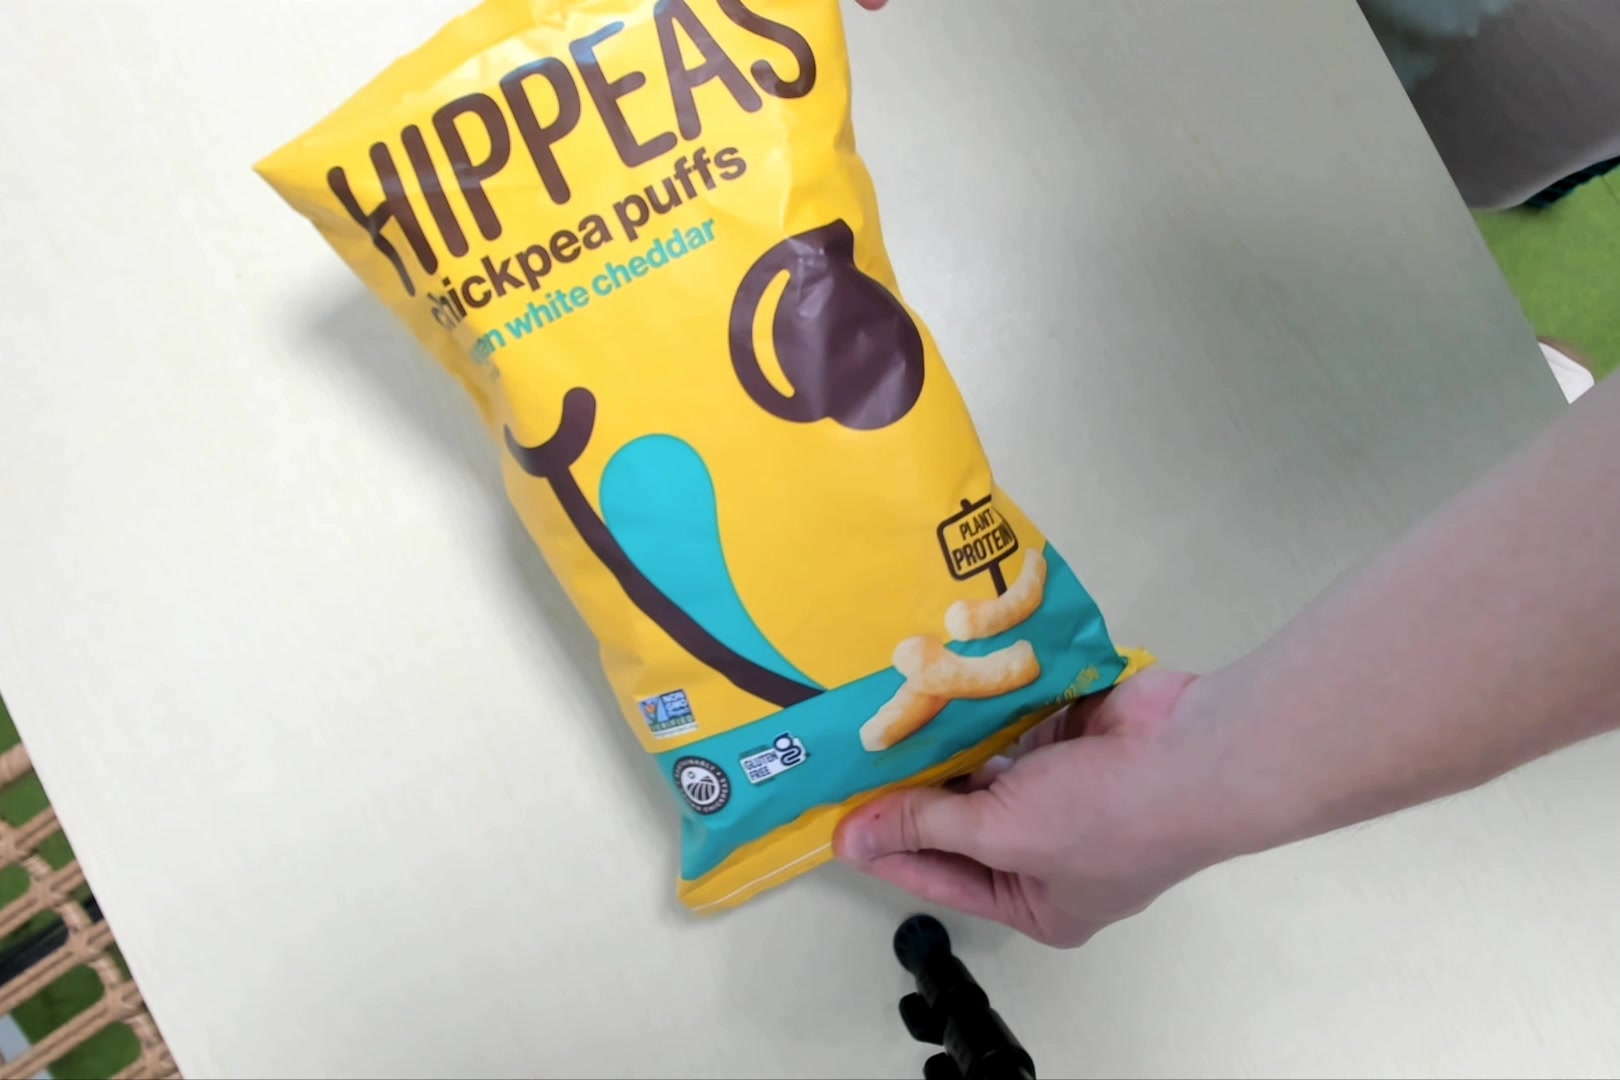PotatoChipsKeropok_100-199g_NonHalal_NonHealthy: (301, 1, 1134, 873)
